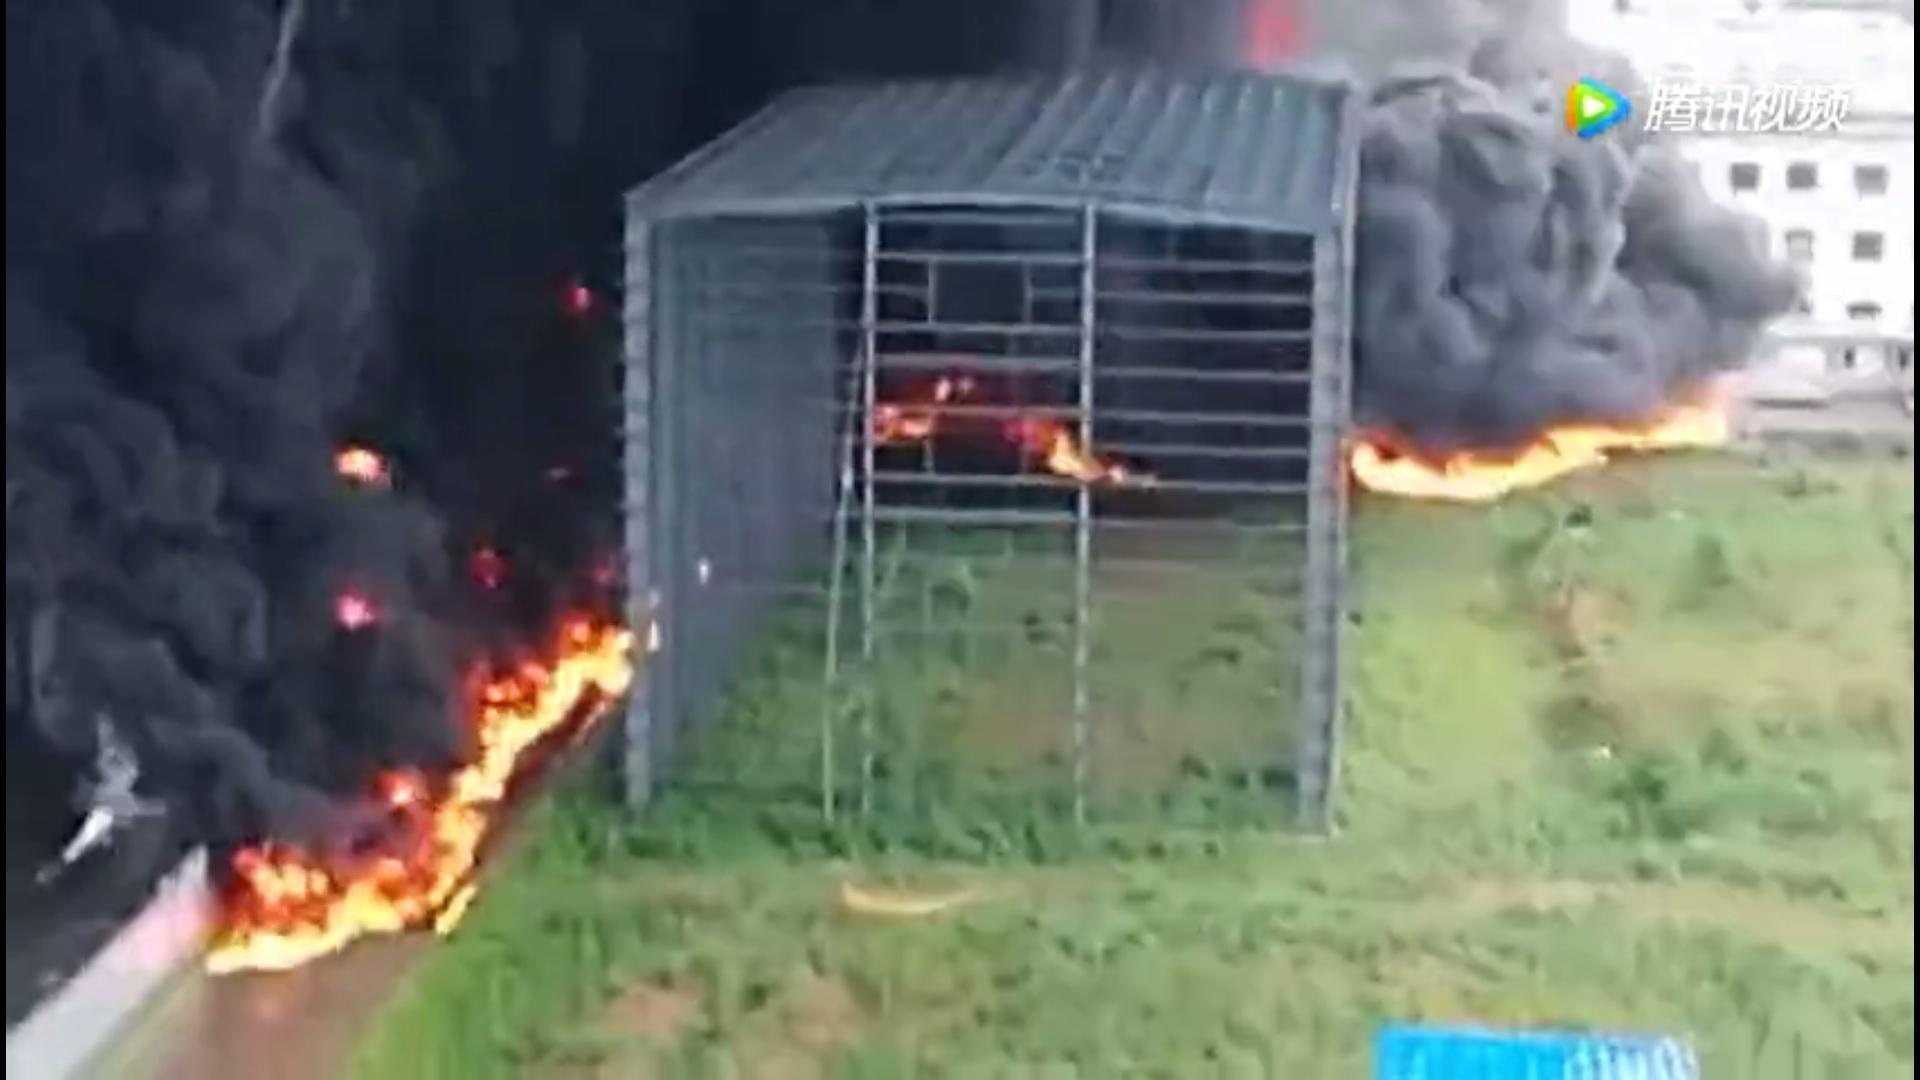fire: (198, 612, 647, 963), (1341, 392, 1735, 492), (1009, 414, 1124, 483)
